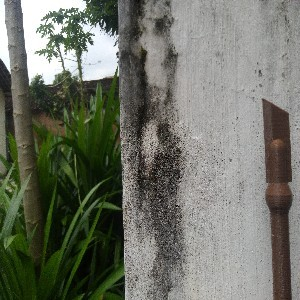cutter: (262, 97, 294, 300)
